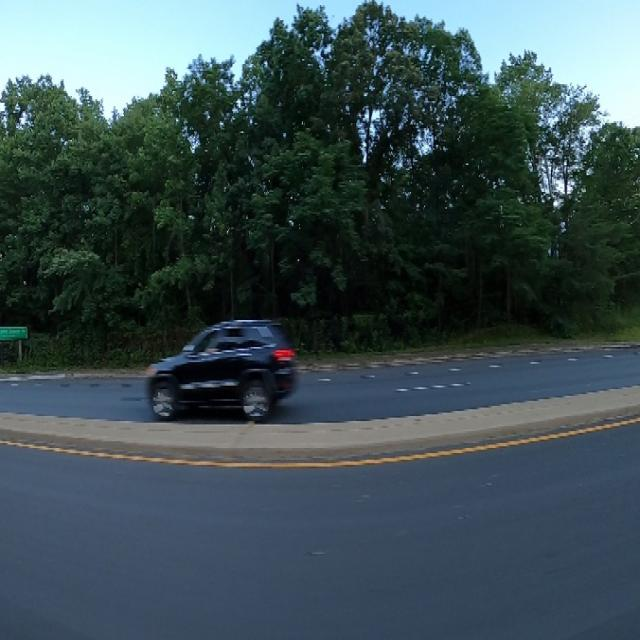cars: (142, 306, 300, 423)
